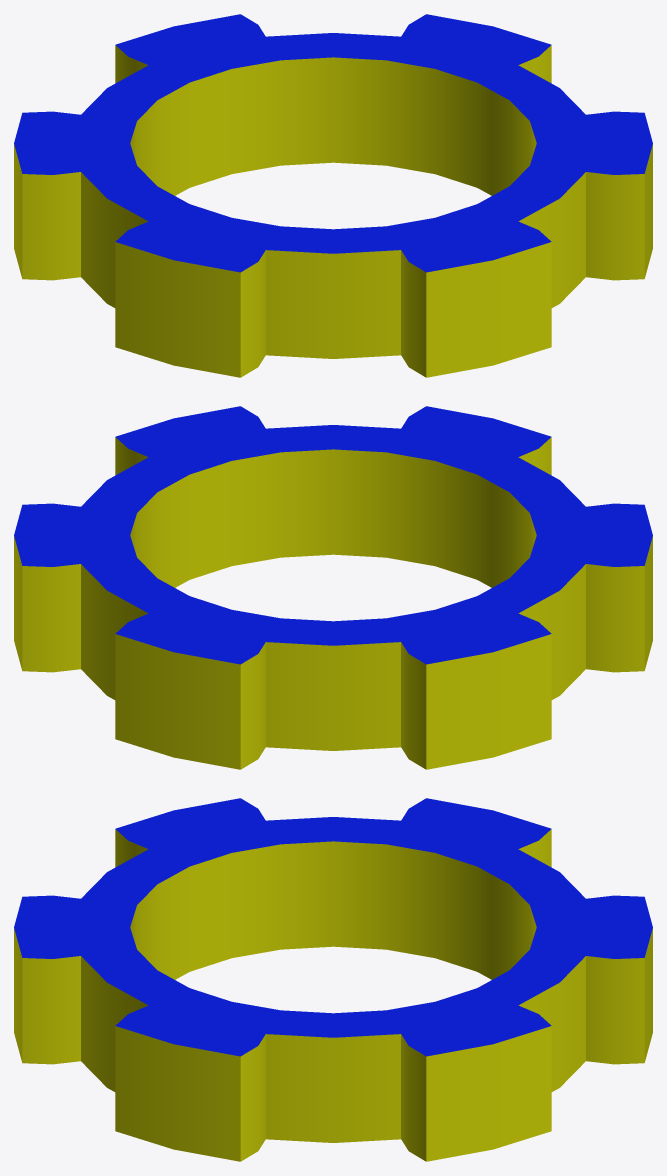
File: Zahnrad.fbx
3 renders of one model, top to bottom at view 1: azimuth 30°, elevation 25°; view 2: azimuth 150°, elevation 25°; view 3: azimuth 270°, elevation 25°, orthographic.
Visible parts, largest first — view 1: Gear; view 2: Gear; view 3: Gear.
Boxes of the visible parts, <box> form: Gear: <box>14,14,652,377</box>; Gear: <box>14,406,652,769</box>; Gear: <box>14,798,652,1161</box>.
Size of the model in its own units: 211 by 40 by 220.
